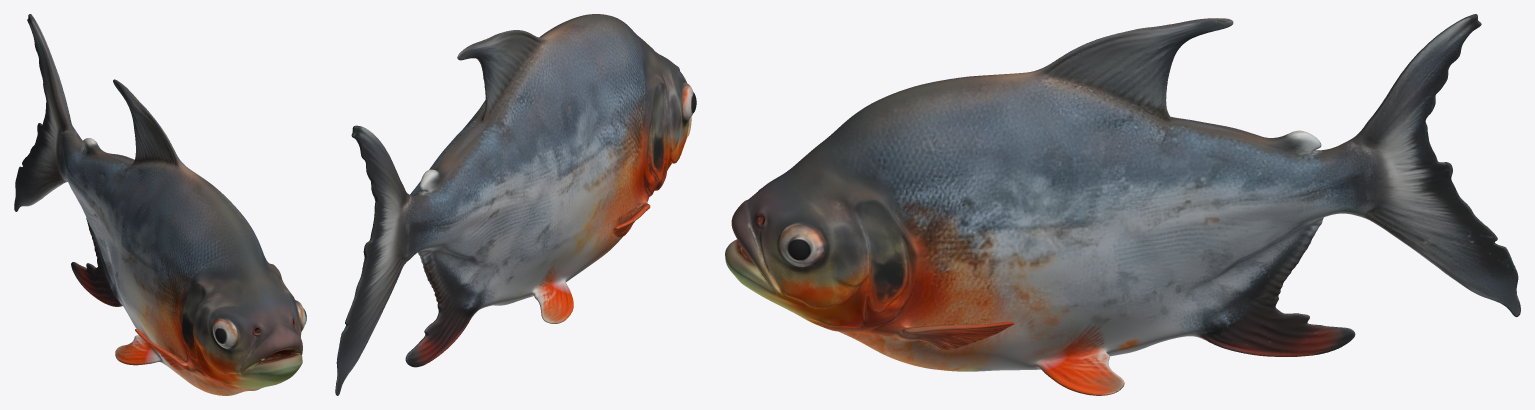
The model's file is nm__pacu.glb.
3 views of the same model, side by side, from view 1: azimuth 30°, elevation 25°; view 2: azimuth 150°, elevation 25°; view 3: azimuth 270°, elevation 25° (orthographic). The views are drawn at different scales.
Parts seen in each view (by area): view 1: Object_4, Object_5; view 2: Object_4, Object_5; view 3: Object_4, Object_5.
Part boxes in pixels (x1=…): Object_4: x1=14, y1=14, x2=306, y2=395; Object_5: x1=64, y1=130, x2=265, y2=394; Object_4: x1=335, y1=14, x2=696, y2=395; Object_5: x1=411, y1=14, x2=669, y2=367; Object_4: x1=725, y1=14, x2=1520, y2=395; Object_5: x1=865, y1=42, x2=1351, y2=394.
Bounding box in the file's own units: 0.4433 × 0.9325 × 1.9.
Materials: 1 (1 with a texture image).
